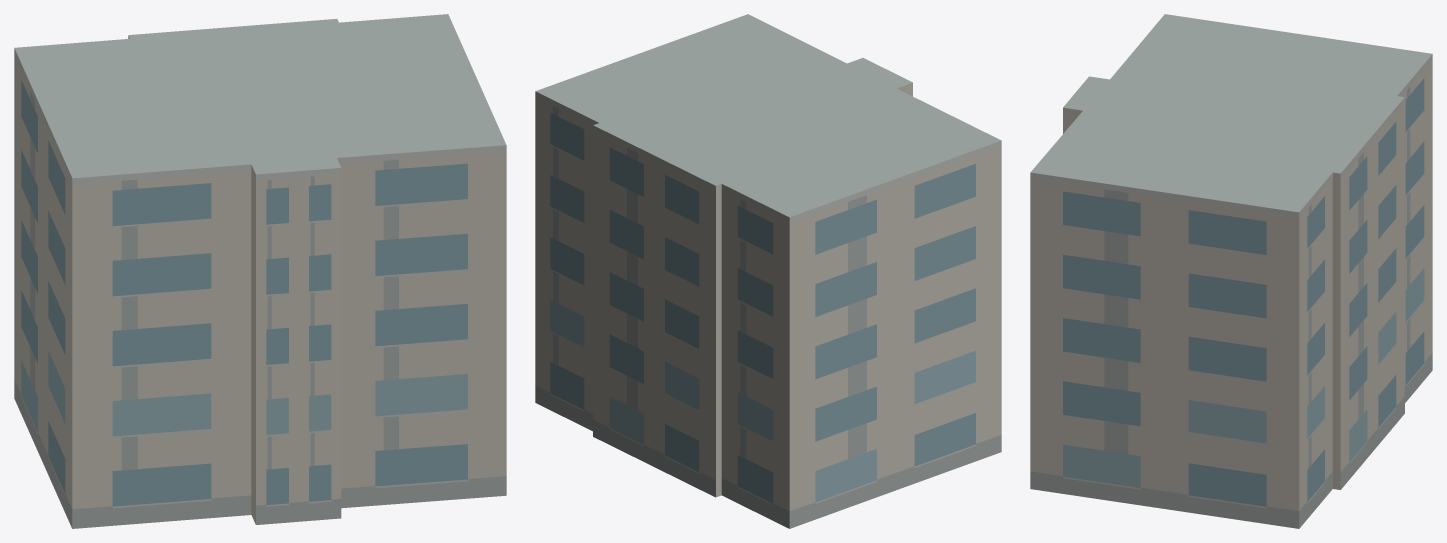
Rendered from survey-upis-32883311.glb.
The picture shows the model from 3 angles, left to right: view 1: azimuth 30°, elevation 25°; view 2: azimuth 150°, elevation 25°; view 3: azimuth 270°, elevation 25°; orthographic projection. The views are drawn at different scales.
Visible parts, largest first — view 1: survey-upis-32883311.tmp; view 2: survey-upis-32883311.tmp; view 3: survey-upis-32883311.tmp.
Part boxes in pixels (<box>): survey-upis-32883311.tmp: <box>14,14,506,528</box>; survey-upis-32883311.tmp: <box>535,14,1001,528</box>; survey-upis-32883311.tmp: <box>1030,14,1432,528</box>.
Bounding box in the file's own units: 17.76 × 13.2 × 15.22.
